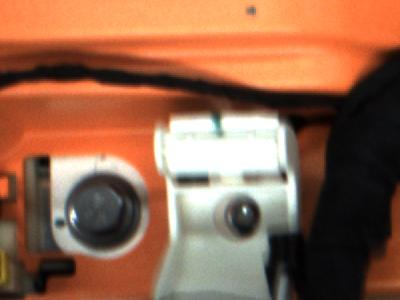nut_b: (61, 171, 155, 260)
